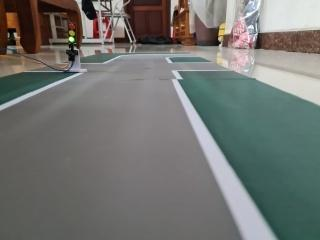green: (62, 19, 85, 60)
